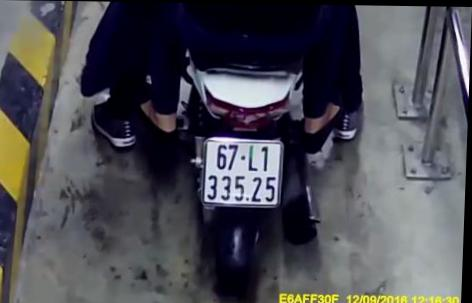License_Plate: (188, 132, 292, 214)
